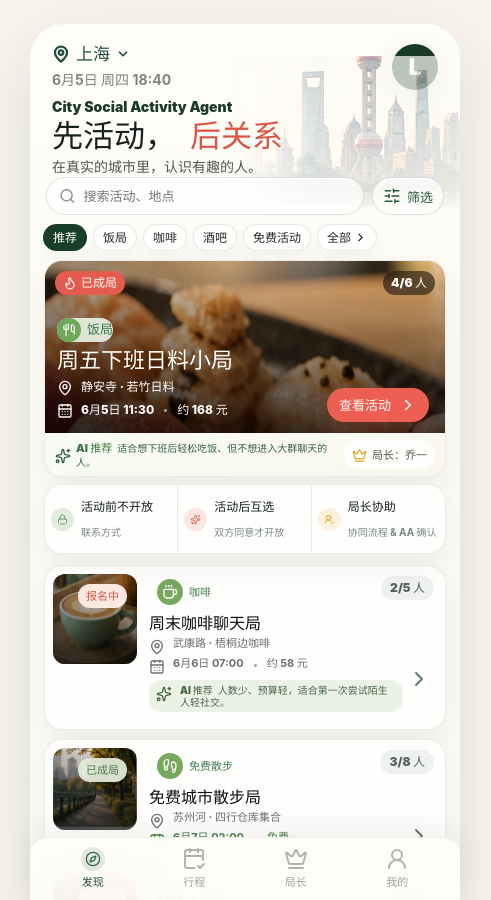
Test: App signup flow › shows free activity signup fee rules
Click the button named "查看 免费城市散步局".
click(419, 836)  # box [405,822,433,850]
(page scrolled)
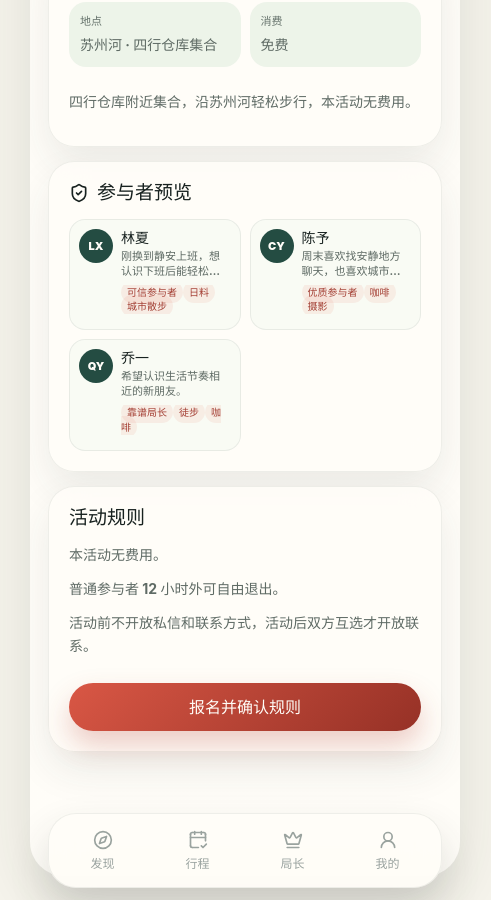
Click the button "报名并确认规则".
click(245, 707)  # box [69,683,421,731]
(page scrolled)
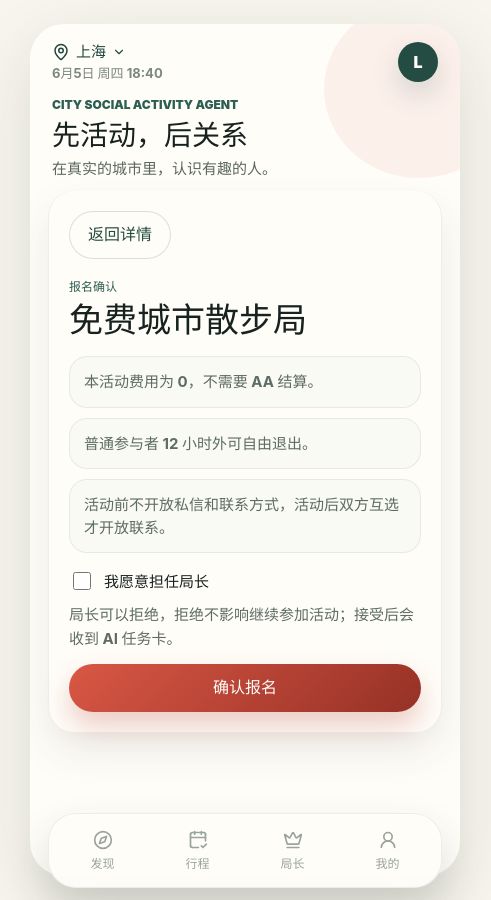
Result: the text "本活动费用为 0，不需要 AA 结算。" is shown at [69,356,421,408]
